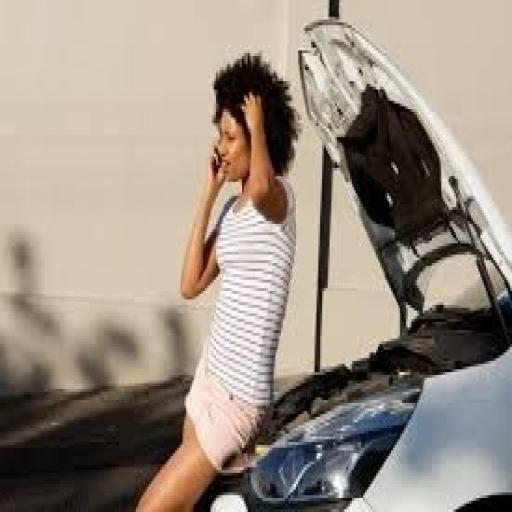calling: (128, 50, 302, 510)
